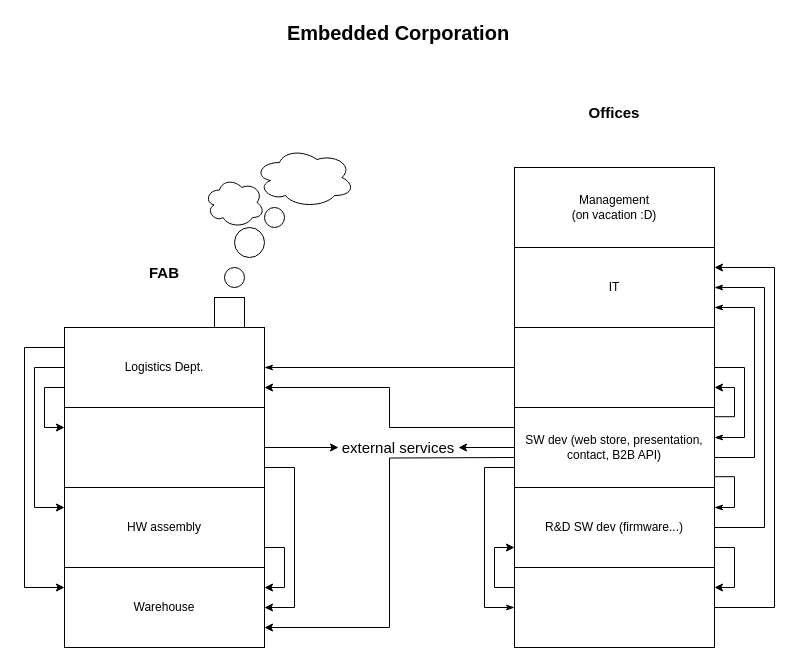
This 800x665 diagram has some shape labels left out. Each missing label, with the box of its shape:
HW procurement: (64, 406, 264, 488)
R&D HW design and verification: (514, 566, 714, 648)
Sales: (514, 326, 714, 408)
